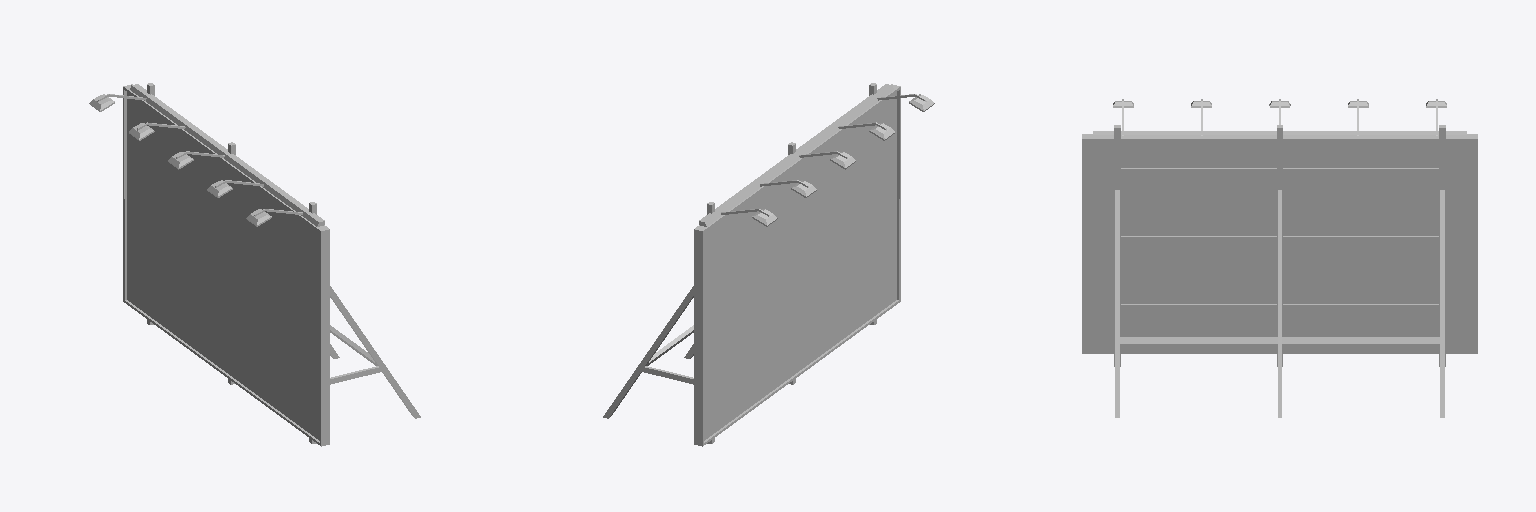
Rendered from board4.obj.
The picture shows the model from 3 angles: view 1: azimuth 30°, elevation 25°; view 2: azimuth 150°, elevation 25°; view 3: azimuth 270°, elevation 25°; orthographic projection.
Parts seen in each view (by area): view 1: Kitbash3d_FutureSlums.017; view 2: Kitbash3d_FutureSlums.017; view 3: Kitbash3d_FutureSlums.017.
Boxes of the visible parts, x1,y1,x2,y2 form: Kitbash3d_FutureSlums.017: [89, 83, 420, 446]; Kitbash3d_FutureSlums.017: [603, 83, 934, 446]; Kitbash3d_FutureSlums.017: [1082, 99, 1477, 417].
Size of the model in its own units: 2.4 by 3.36 by 4.97.